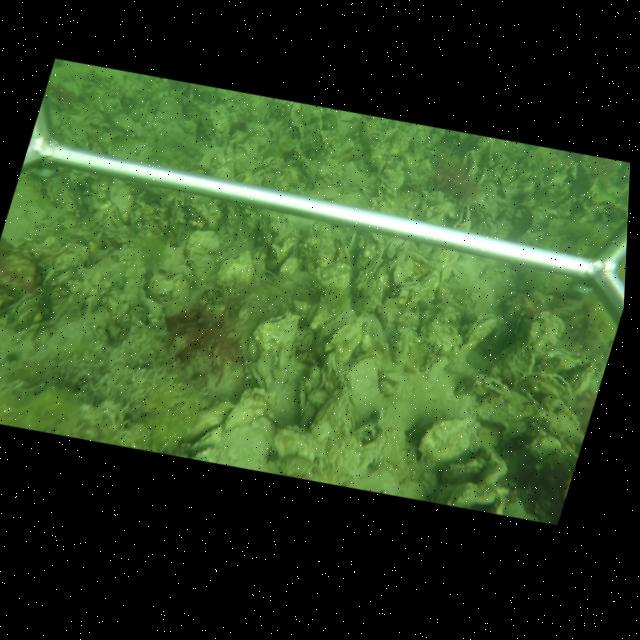Oyster-Closed: (274, 385, 384, 482), (242, 315, 300, 406), (511, 371, 574, 410), (346, 351, 382, 419), (312, 309, 357, 352), (462, 313, 500, 351), (10, 288, 50, 322), (354, 258, 384, 298), (187, 423, 223, 450), (412, 271, 441, 302), (333, 225, 351, 267), (296, 373, 312, 420), (572, 361, 594, 394)
Oyster-Indeterminate: (417, 415, 483, 463), (486, 336, 541, 389), (184, 228, 222, 290), (223, 387, 270, 434), (212, 248, 257, 297)
Oyster-Open: (452, 204, 472, 230)
